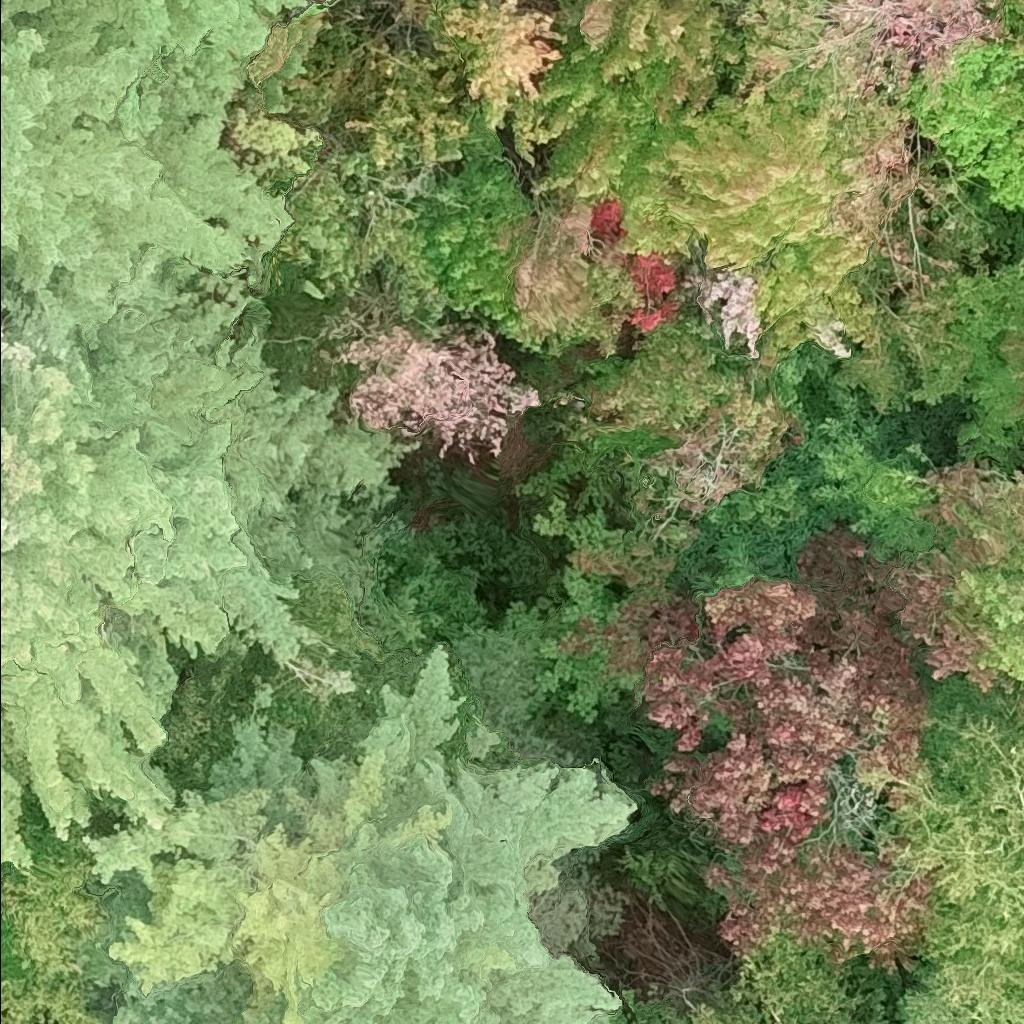crown: (0, 269, 417, 869), (87, 633, 635, 1023), (638, 577, 936, 971), (0, 0, 295, 336), (711, 0, 1003, 189), (611, 86, 844, 269), (883, 710, 1023, 1011), (869, 463, 1023, 697), (0, 765, 123, 1023), (506, 44, 715, 195), (333, 323, 541, 464), (573, 313, 747, 471), (906, 0, 1023, 210), (700, 233, 879, 364), (914, 263, 1023, 466), (501, 203, 621, 353), (433, 0, 567, 131), (80, 0, 303, 78), (675, 937, 854, 1023), (580, 0, 741, 83), (893, 988, 1023, 1023), (614, 1002, 677, 1023), (1019, 703, 1023, 719)
